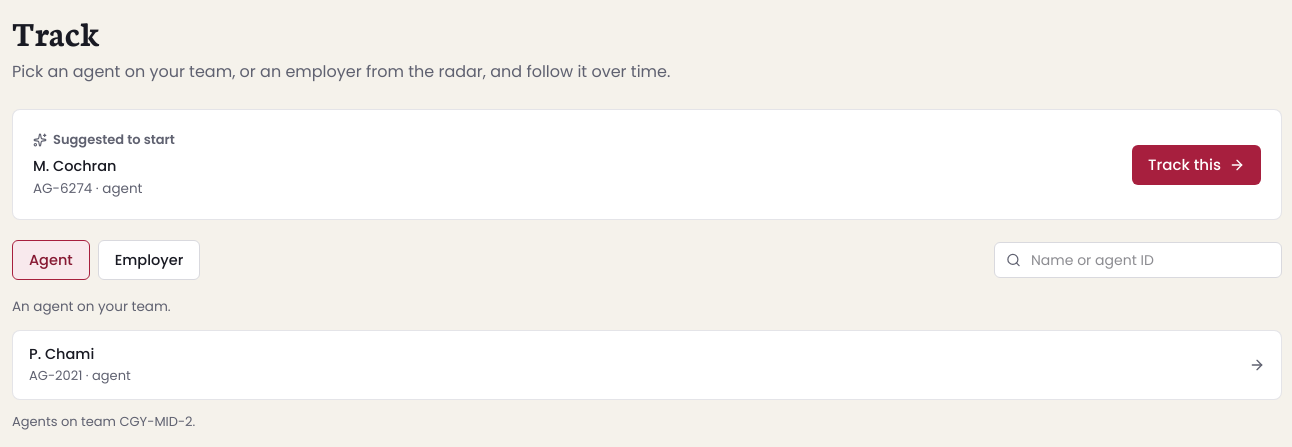
Test case: the picker lists only what the API returns for the role, and switches kind
The image size is (1292, 447).
Click the button "Employer".
click(149, 260)  # box 98,240 -> 200,280
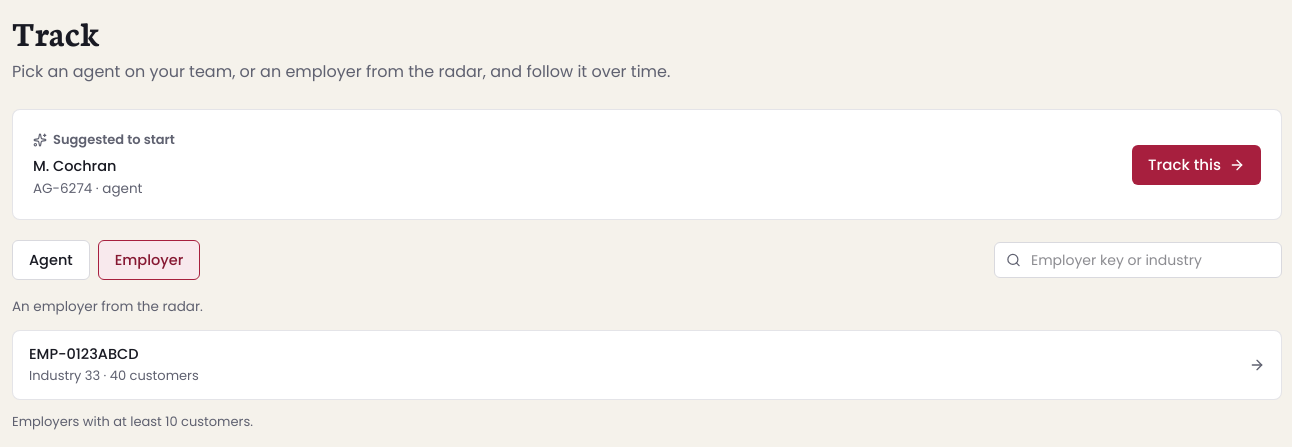
Now the text "Employers with at least 10 customers." is shown, box 12,412 -> 253,431
